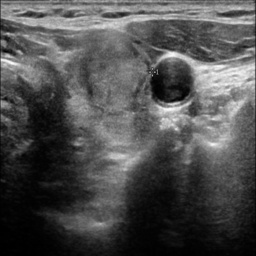mass: (88, 37, 145, 114)
